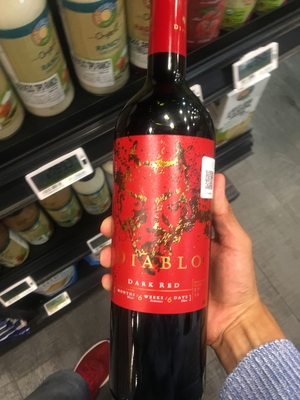diablo dark red: (94, 31, 241, 400)
